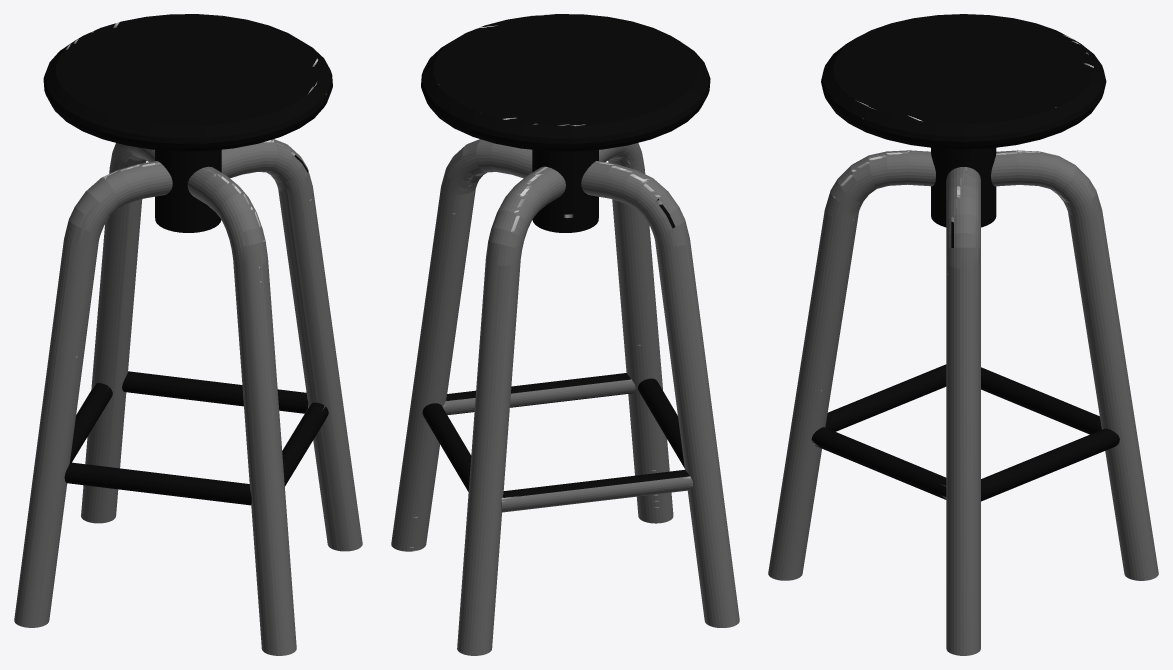
Rendered from taburete.obj.
3 renders of one model, left to right at view 1: azimuth 30°, elevation 25°; view 2: azimuth 150°, elevation 25°; view 3: azimuth 270°, elevation 25°, orthographic.
Parts seen in each view (by area): view 1: silla; view 2: silla; view 3: silla.
Part boxes in pixels (box(x1,y1,x2,y2)): silla: box(14, 14, 362, 655); silla: box(391, 14, 739, 655); silla: box(768, 14, 1158, 655).
Bounding box in the file's own units: 1.13 × 1.61 × 1.13.
